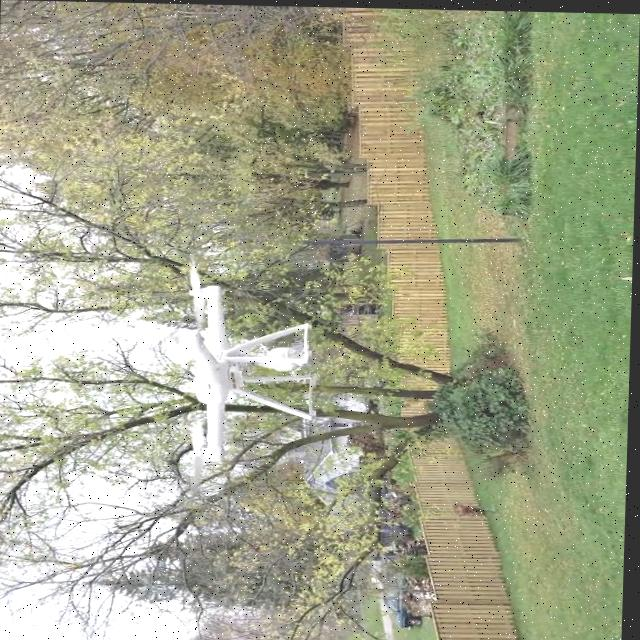drone: (167, 252, 269, 472)
